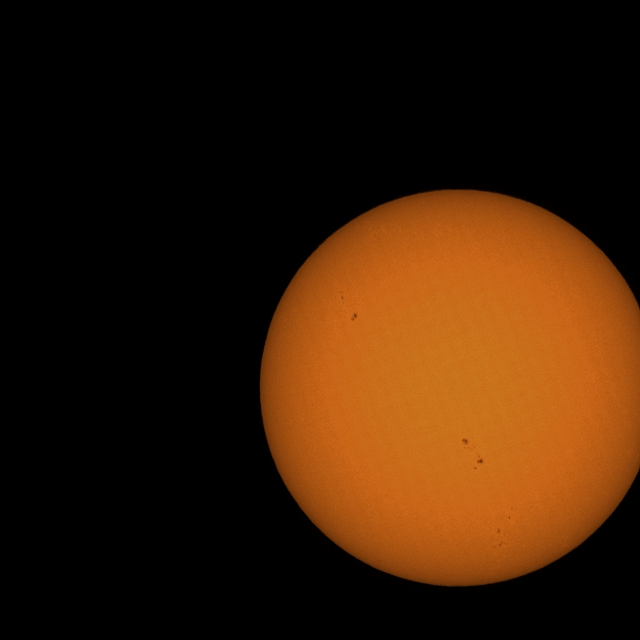sunspot: (460, 437, 484, 470), (494, 530, 507, 548), (474, 455, 484, 469), (337, 289, 346, 304), (461, 437, 470, 450), (351, 312, 358, 322), (496, 528, 502, 536), (510, 506, 514, 511), (508, 515, 512, 520)
